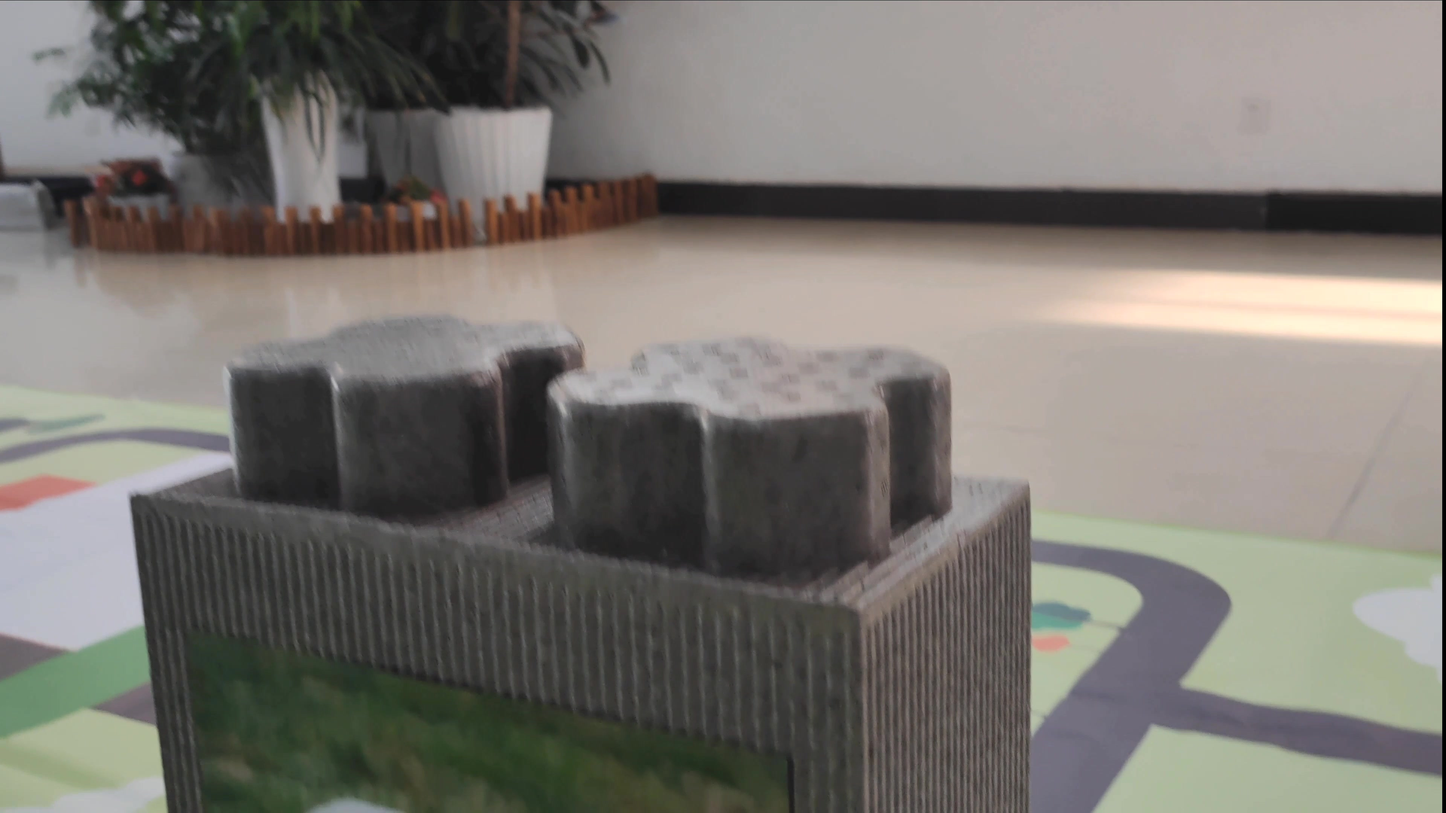panda: (265, 723, 602, 813)
